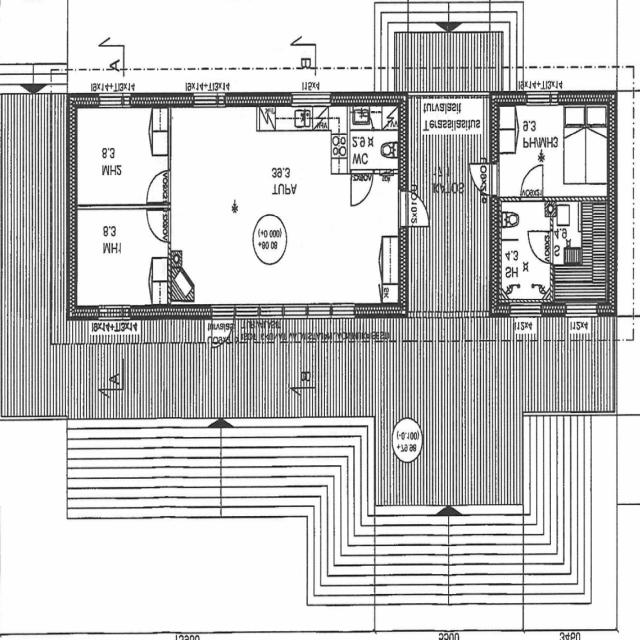door: (399, 191, 433, 226), (212, 304, 235, 352), (468, 162, 500, 195), (521, 164, 543, 202), (146, 170, 171, 202), (529, 232, 554, 263), (146, 210, 171, 241), (352, 168, 373, 204)
